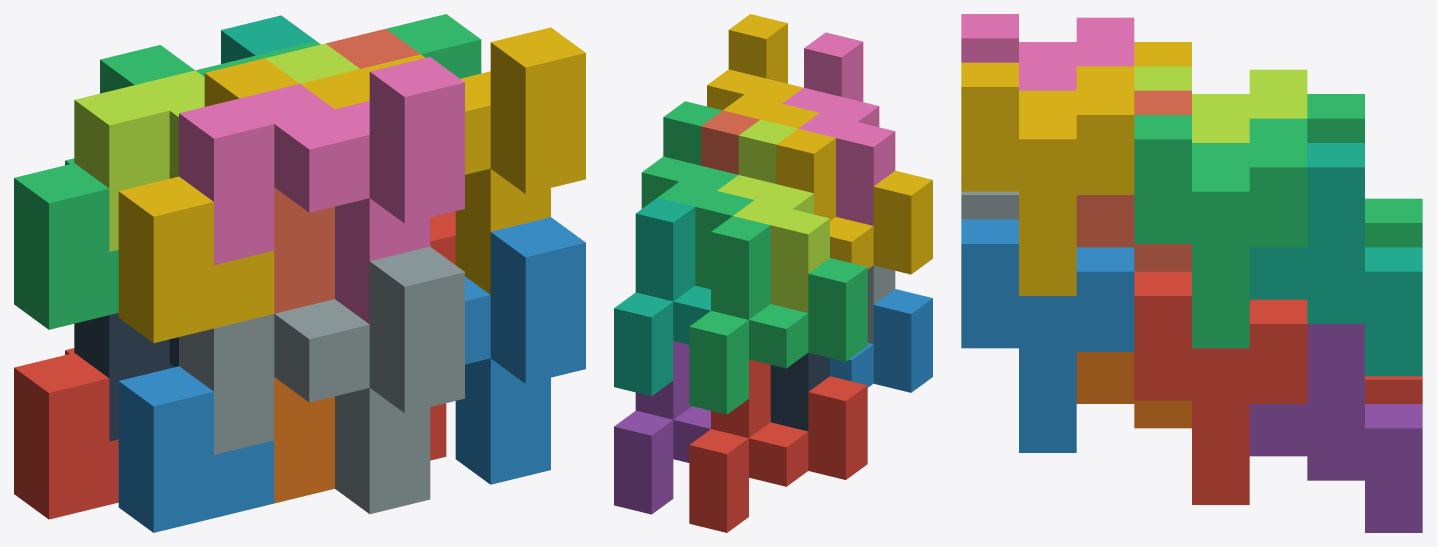
File: tiling.obj
3 views of the same model, side by side, from view 1: azimuth 30°, elevation 25°; view 2: azimuth 150°, elevation 25°; view 3: azimuth 270°, elevation 25° (orthographic). The views are drawn at different scales.
Parts seen in each view (by area): view 1: copy_2_domain_4, copy_2_domain_2, copy_2_domain_6, copy_2_domain_8, copy_1_domain_4, copy_1_domain_2, copy_1_domain_3, copy_1_domain_1, copy_2_domain_3, copy_1_domain_8, copy_1_domain_6, copy_2_domain_1 (+3 smaller); view 2: copy_1_domain_3, copy_1_domain_1, copy_1_domain_7, copy_1_domain_4, copy_2_domain_4, copy_2_domain_3, copy_1_domain_5, copy_2_domain_7, copy_2_domain_8, copy_1_domain_2, copy_2_domain_1, copy_1_domain_8 (+1 smaller); view 3: copy_2_domain_8, copy_2_domain_7, copy_2_domain_6, copy_2_domain_5, copy_1_domain_7, copy_1_domain_5, copy_2_domain_4, copy_2_domain_3, copy_1_domain_8, copy_1_domain_3, copy_1_domain_6, copy_2_domain_2 (+2 smaller).
Boxes of the visible parts, x1,y1,x2,y2 form: copy_2_domain_4: [179, 57, 464, 323]; copy_2_domain_2: [179, 246, 464, 513]; copy_2_domain_6: [455, 217, 585, 484]; copy_2_domain_8: [300, 27, 585, 294]; copy_1_domain_4: [118, 58, 299, 343]; copy_1_domain_2: [118, 364, 274, 532]; copy_1_domain_3: [14, 45, 194, 329]; copy_1_domain_1: [14, 348, 118, 519]; copy_2_domain_3: [74, 43, 359, 251]; copy_1_domain_8: [274, 29, 420, 313]; copy_1_domain_6: [274, 377, 334, 503]; copy_2_domain_1: [74, 313, 178, 441]; copy_1_domain_3: [689, 216, 867, 414]; copy_1_domain_1: [689, 359, 867, 532]; copy_1_domain_7: [614, 197, 710, 396]; copy_1_domain_4: [776, 129, 932, 274]; copy_2_domain_4: [782, 32, 895, 225]; copy_2_domain_3: [717, 119, 829, 312]; copy_1_domain_5: [614, 341, 710, 514]; copy_2_domain_7: [641, 101, 753, 289]; copy_2_domain_8: [707, 14, 819, 128]; copy_1_domain_2: [830, 289, 932, 392]; copy_2_domain_1: [770, 352, 829, 431]; copy_1_domain_8: [701, 110, 759, 174]; copy_2_domain_8: [961, 62, 1134, 295]; copy_2_domain_7: [1134, 115, 1307, 348]; copy_2_domain_6: [961, 219, 1134, 452]; copy_2_domain_5: [1134, 271, 1307, 504]; copy_1_domain_7: [1249, 143, 1422, 376]; copy_1_domain_5: [1249, 324, 1422, 532]; copy_2_domain_4: [961, 14, 1134, 90]; copy_2_domain_3: [1134, 66, 1307, 142]; copy_1_domain_8: [1076, 90, 1191, 271]; copy_1_domain_3: [1307, 94, 1422, 247]; copy_1_domain_6: [1076, 352, 1191, 428]; copy_2_domain_2: [961, 191, 1018, 219].
Bounding box in the file's own units: 6 × 9 × 8.
